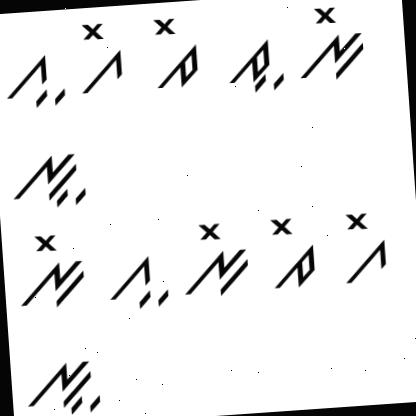gah: (0, 43, 69, 121), (98, 251, 171, 317)
go: (335, 205, 396, 287), (74, 16, 130, 96)
ngah: (9, 141, 92, 216), (18, 347, 104, 416)
ngo: (16, 226, 92, 314), (292, 2, 373, 82), (177, 218, 254, 296)
tah: (222, 36, 287, 102)
to: (264, 210, 322, 296), (148, 13, 202, 96)
